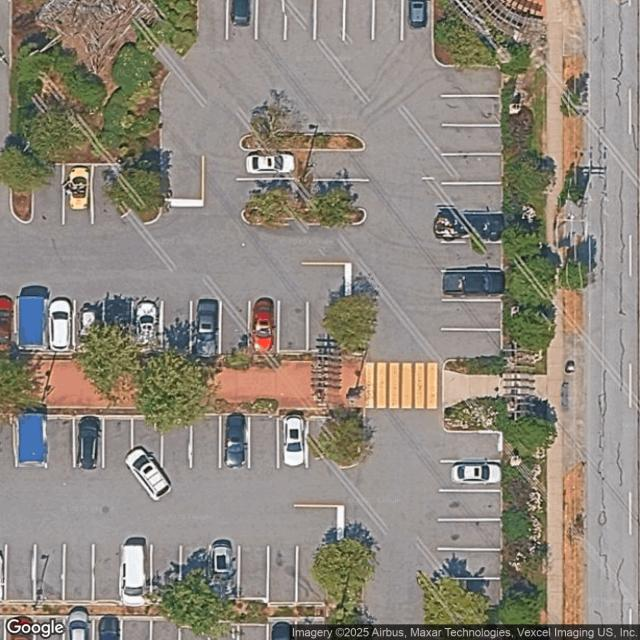car: (125, 446, 170, 500), (442, 267, 503, 296), (122, 544, 146, 607), (195, 300, 219, 355), (77, 416, 101, 469), (251, 299, 276, 349), (224, 414, 247, 468), (49, 299, 72, 350), (452, 462, 499, 486), (135, 299, 160, 344), (66, 166, 90, 210), (246, 153, 296, 174), (284, 416, 304, 468), (212, 539, 233, 584), (67, 606, 90, 639), (8, 616, 35, 640), (78, 303, 96, 337), (96, 616, 121, 640), (0, 295, 13, 339), (231, 1, 251, 27), (408, 1, 426, 28), (271, 622, 294, 640)
lot_boundary: (0, 0, 505, 639)
